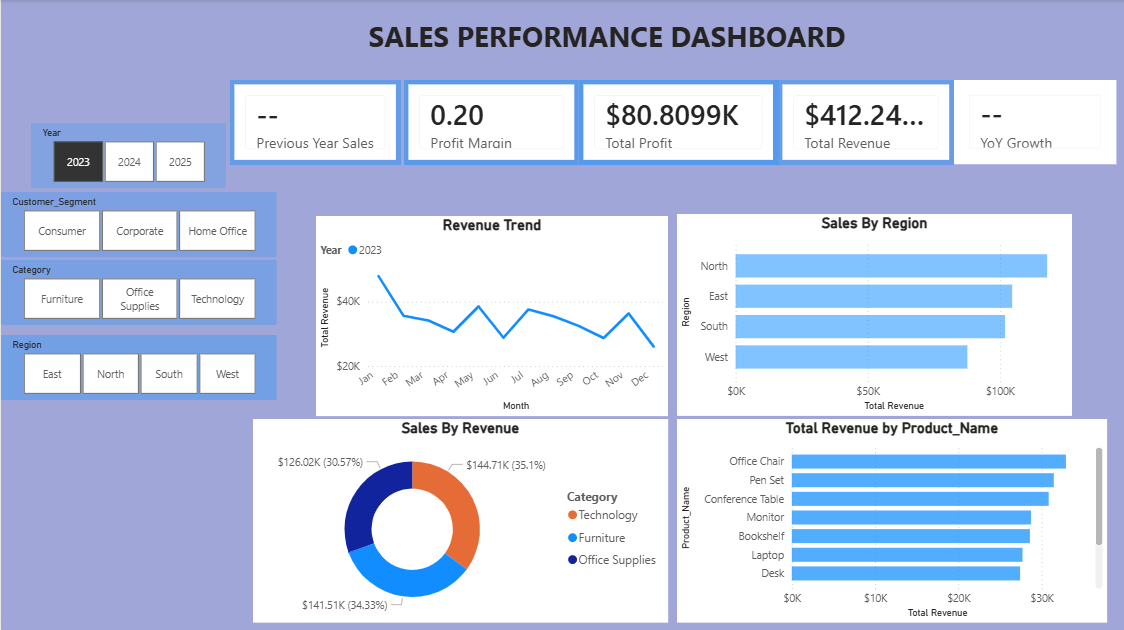

What the dashboard file says about the page in this screenshot:
{"tool":"powerbi","page":{"name":"Page 1","canvas":[1280,720],"ordinal":0},"visuals":[{"type":"cardVisual","fields":{"Data":["sales_dashboard_dataset.Previous Year Sales"]},"box":[260.9,91.1,194.8,96.8],"z":0},{"type":"cardVisual","fields":{"Data":["sales_dashboard_dataset.Total Revenue"]},"box":[885.2,91.1,200.5,96.8],"z":1000},{"type":"cardVisual","fields":{"Data":["sales_dashboard_dataset.Profit Margin"]},"box":[459.1,91.1,199.4,96.8],"z":2000},{"type":"cardVisual","fields":{"Data":["sales_dashboard_dataset.YoY Growth"]},"box":[1085.7,91.1,184.6,95.7],"z":3000},{"type":"cardVisual","fields":{"Data":["sales_dashboard_dataset.Total Profit"]},"box":[658.5,91.1,226.7,96.8],"z":4000},{"type":"lineChart","title":"Revenue Trend","fields":{"Series":["Date_Table.Year"],"Category":["Date_Table.Month"],"Y":["sales_dashboard_dataset.Total Revenue"]},"box":[358.9,246.1,401,227.8],"z":5000},{"type":"clusteredBarChart","title":"Sales By Region","fields":{"Category":["sales_dashboard_dataset.Region"],"Y":["sales_dashboard_dataset.Total Revenue"]},"box":[770.1,243.8,450,230.1],"z":6000},{"type":"donutChart","title":"Sales By Revenue","fields":{"Category":["sales_dashboard_dataset.Category"],"Y":["sales_dashboard_dataset.Total Revenue"]},"box":[287.1,477.3,472.8,242.7],"z":7000},{"type":"clusteredBarChart","fields":{"Y":["sales_dashboard_dataset.Total Revenue"],"Category":["sales_dashboard_dataset.Product_Name"]},"box":[770.1,477.3,510.4,242.7],"z":8000},{"type":"slicer","fields":{"Values":["Date_Table.Year"]},"box":[34.3,140,222.3,74.1],"z":9000},{"type":"slicer","fields":{"Values":["sales_dashboard_dataset.Category"]},"box":[0,296.4,314.2,74.1],"z":10000},{"type":"slicer","fields":{"Values":["sales_dashboard_dataset.Customer_Segment"]},"box":[0,218.2,314.2,74.1],"z":11000},{"type":"slicer","fields":{"Values":["sales_dashboard_dataset.Region"]},"box":[0,381.5,314.2,74.1],"z":12000},{"type":"textbox","box":[377.1,13.7,626.6,67],"z":12001}]}

Visuals, with their boxes in screenshot pixels (x1, y1, x2, y2), scaled from the page's 1280x720 canvas onto the 1124x630 screenshot:
cardVisual - sales_dashboard_dataset.Previous Year Sales: (left=229, top=80, right=400, bottom=164)
cardVisual - sales_dashboard_dataset.Total Revenue: (left=777, top=80, right=953, bottom=164)
cardVisual - sales_dashboard_dataset.Profit Margin: (left=403, top=80, right=578, bottom=164)
cardVisual - sales_dashboard_dataset.YoY Growth: (left=953, top=80, right=1115, bottom=163)
cardVisual - sales_dashboard_dataset.Total Profit: (left=578, top=80, right=777, bottom=164)
"Revenue Trend" lineChart: (left=315, top=215, right=667, bottom=415)
"Sales By Region" clusteredBarChart: (left=676, top=213, right=1071, bottom=415)
"Sales By Revenue" donutChart: (left=252, top=418, right=667, bottom=629)
clusteredBarChart - sales_dashboard_dataset.Total Revenue x sales_dashboard_dataset.Product_Name: (left=676, top=418, right=1123, bottom=629)
slicer - Date_Table.Year: (left=30, top=122, right=225, bottom=187)
slicer - sales_dashboard_dataset.Category: (left=0, top=259, right=276, bottom=324)
slicer - sales_dashboard_dataset.Customer_Segment: (left=0, top=191, right=276, bottom=256)
slicer - sales_dashboard_dataset.Region: (left=0, top=334, right=276, bottom=399)
textbox: (left=331, top=12, right=881, bottom=71)
